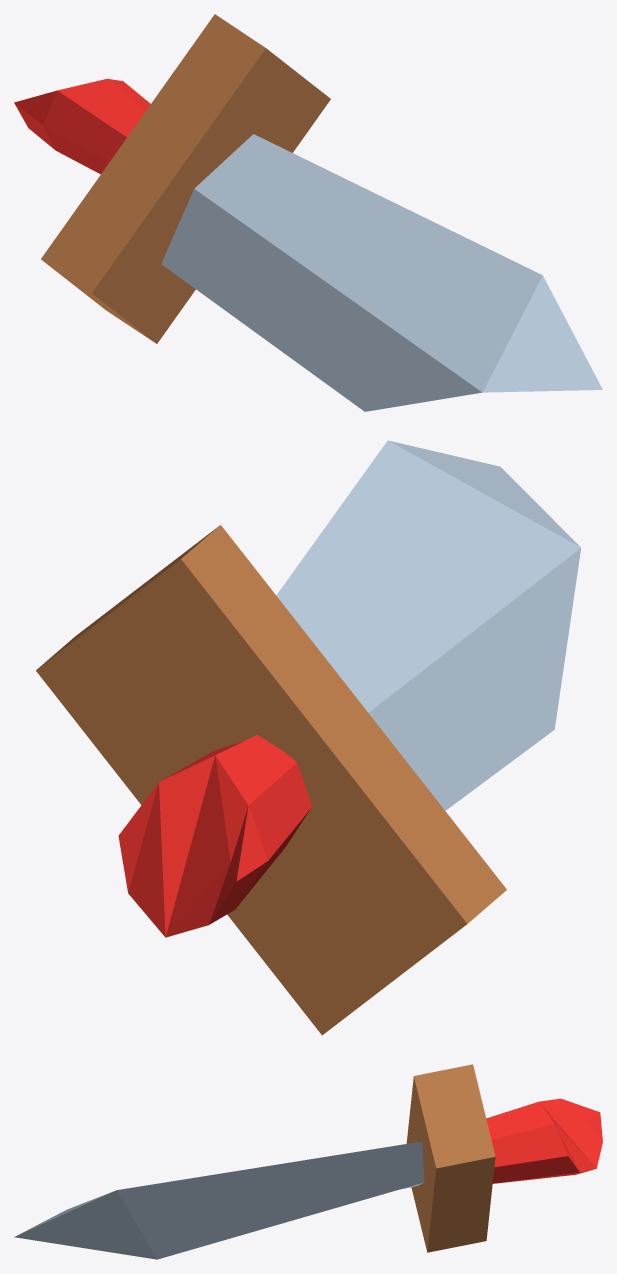
3 views of the same model, one above another, from view 1: azimuth 30°, elevation 25°; view 2: azimuth 150°, elevation 25°; view 3: azimuth 270°, elevation 25° (orthographic). The views are drawn at different scales.
Visible parts, largest first — view 1: DJ_01; view 2: DJ_01; view 3: DJ_01.
Part boxes in pixels (box(x1,y1,x2,y2)): DJ_01: box(14, 14, 602, 411); DJ_01: box(36, 440, 580, 1035); DJ_01: box(14, 1064, 602, 1259).
Size of the model in its own units: 0.1652 by 0.1637 by 0.3947.
